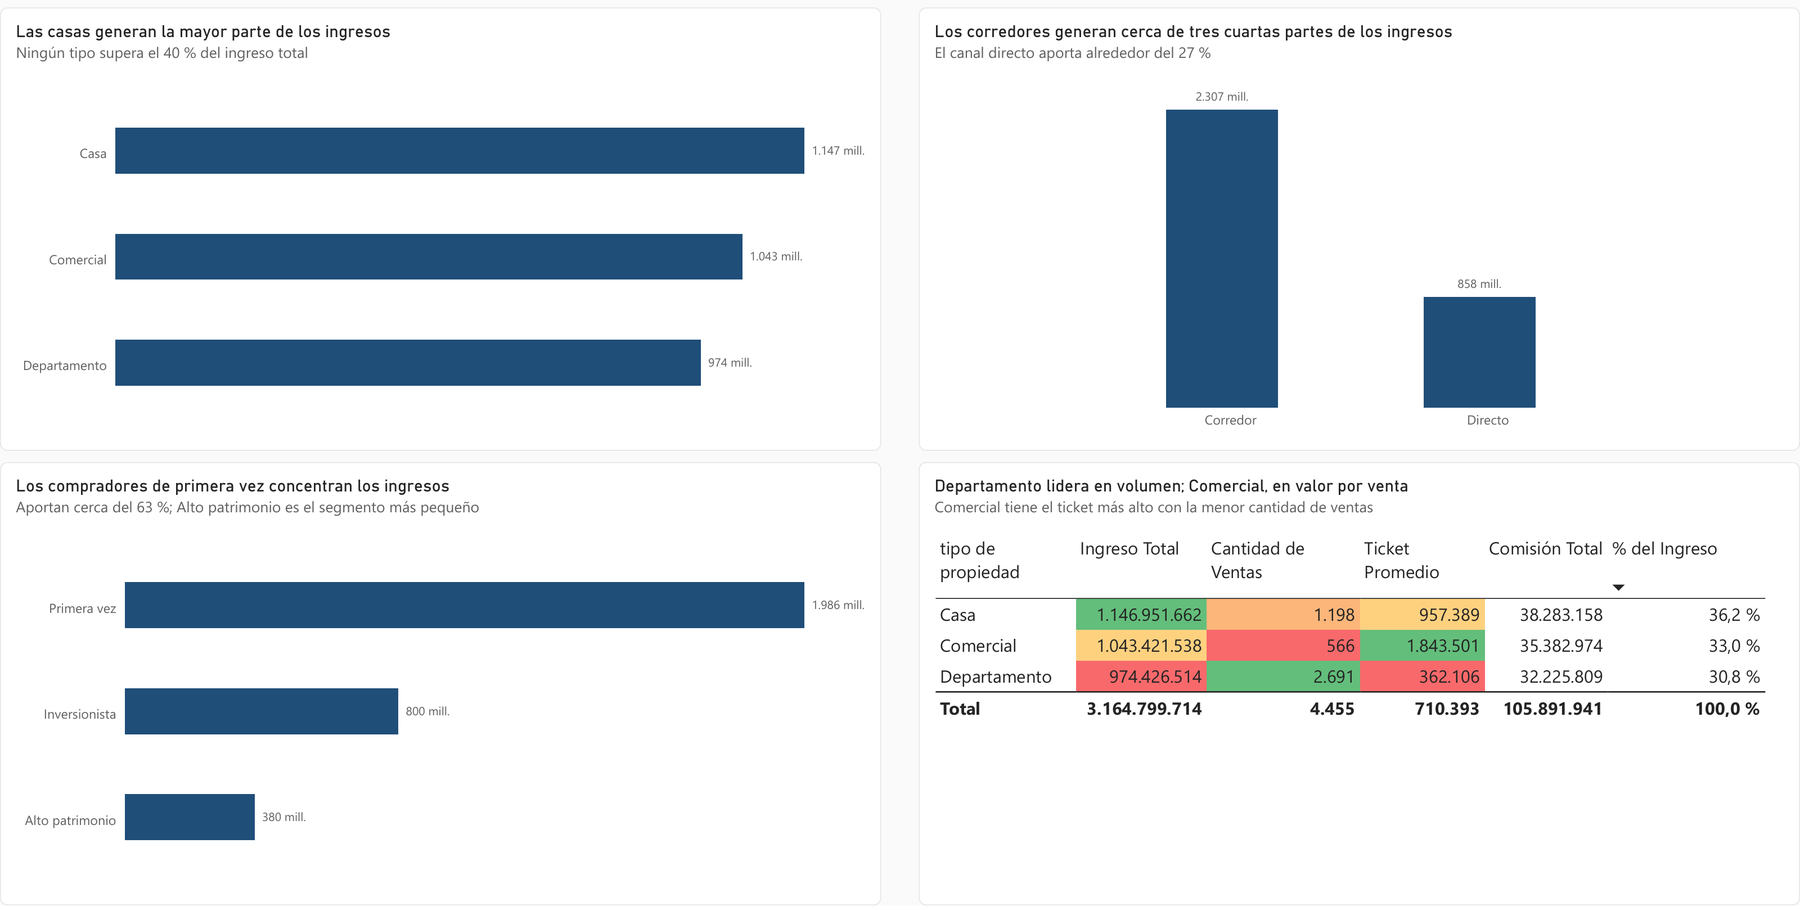

What the dashboard file says about the page in this screenshot:
{"tool":"powerbi","page":{"name":"Comercial","canvas":[1920,1080],"ordinal":1},"visuals":[{"type":"textbox","box":[10.1,0,643.8,52.2],"z":0},{"type":"slicer","fields":{"Values":["dim_fecha.Año"]},"box":[790.2,0,1129.5,64.6],"z":1},{"type":"clusteredBarChart","title":"Las casas generan la mayor parte de los ingresos","fields":{"Category":["dim_propiedades.tipo_propiedad"],"Y":["hecho_ventas_propiedades.Ingreso Total"]},"box":[0,121.9,940,472.9],"z":2},{"type":"clusteredColumnChart","title":"Los corredores generan cerca de tres cuartas partes de los ingresos","fields":{"Category":["hecho_ventas_propiedades.canal_venta"],"Y":["hecho_ventas_propiedades.Ingreso Total"]},"box":[979.7,121.9,940,472.9],"z":3},{"type":"clusteredBarChart","title":"Los compradores de primera vez concentran los ingresos","fields":{"Category":["dim_clientes.segmento_comprador"],"Y":["hecho_ventas_propiedades.Ingreso Total"]},"box":[0,606.6,940,472.9],"z":4},{"type":"tableEx","title":"Departamento lidera en volumen; Comercial, en valor por venta","fields":{"Values":["dim_propiedades.tipo_propiedad","hecho_ventas_propiedades.Ingreso Total","hecho_ventas_propiedades.Cantidad de Ventas","hecho_ventas_propiedades.Ticket Promedio","hecho_ventas_propiedades.Comisión Total","hecho_ventas_propiedades.% Ingresos Tipo Propiedad"]},"box":[979.7,606.6,940,473],"z":5}]}

Visuals, with their boxes on the page's 1920x1080 design canvas (x1, y1, x2, y2). These are canvas units, not pixel positions in the 1800x911 screenshot, which may show the page scaled, cropped or inside an application window:
textbox: (10, 0, 654, 52)
slicer - dim_fecha.Año: (790, 0, 1920, 65)
"Las casas generan la mayor parte de los ingresos" clusteredBarChart: (0, 122, 940, 595)
"Los corredores generan cerca de tres cuartas partes de los ingresos" clusteredColumnChart: (980, 122, 1920, 595)
"Los compradores de primera vez concentran los ingresos" clusteredBarChart: (0, 607, 940, 1080)
"Departamento lidera en volumen; Comercial, en valor por venta" tableEx: (980, 607, 1920, 1080)
